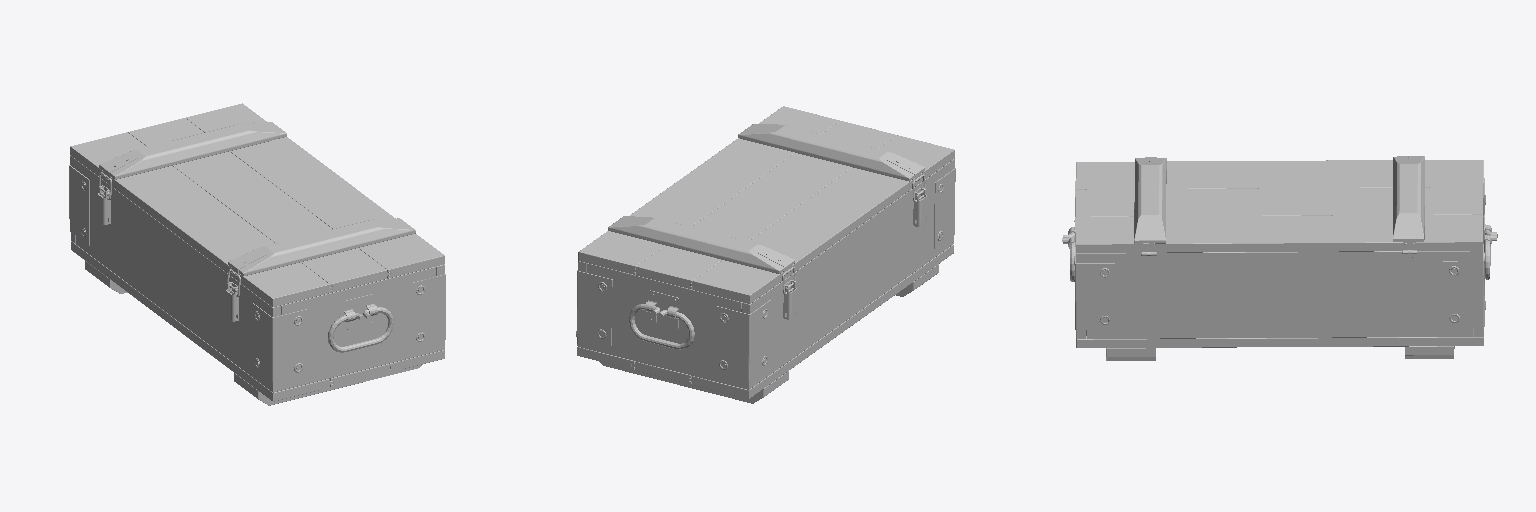
File: ammo.obj
The picture shows the model from 3 angles: view 1: azimuth 30°, elevation 25°; view 2: azimuth 150°, elevation 25°; view 3: azimuth 270°, elevation 25°; orthographic projection.
Parts seen in each view (by area): view 1: box; view 2: box; view 3: box.
Boxes of the visible parts, <box> form: box: <box>69,103,445,405</box>; box: <box>576,106,955,403</box>; box: <box>1062,156,1497,360</box>.
Size of the model in its own units: 18.67 by 13.39 by 38.33.